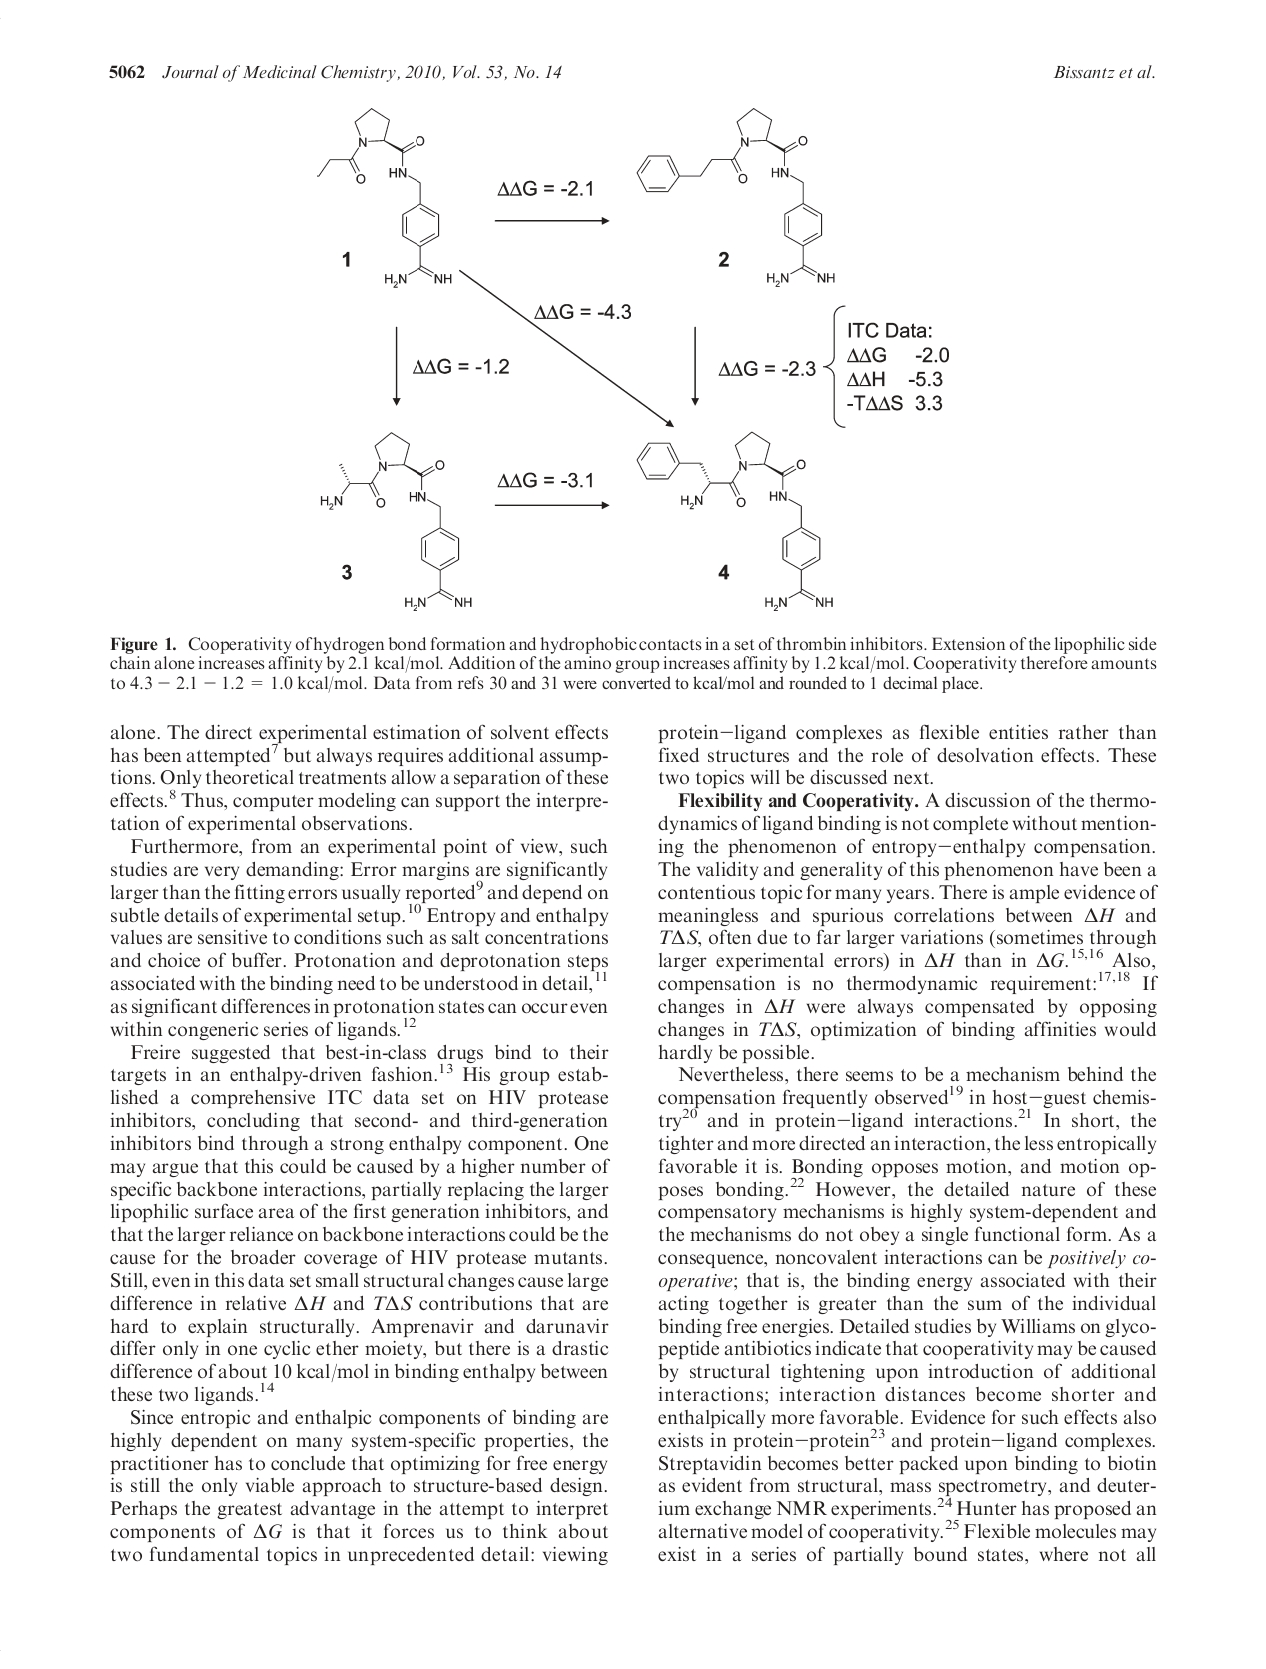exist_molecular: (632, 101, 844, 289), (637, 431, 840, 618), (314, 426, 477, 614), (306, 101, 453, 297)
